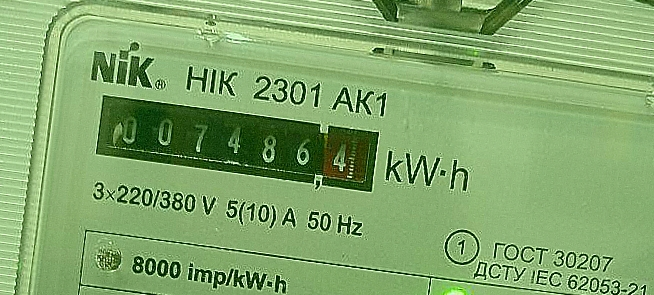0: (116, 110, 140, 147), (153, 113, 175, 148)
4: (221, 119, 244, 156), (328, 138, 349, 174)
6: (291, 134, 314, 168)
7: (184, 118, 212, 154)
8: (257, 130, 279, 167)
screen: (83, 81, 389, 204)
